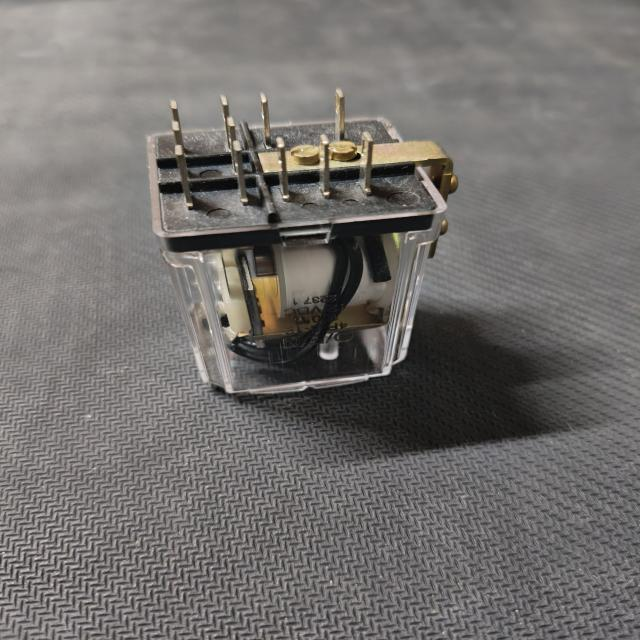relay: (121, 80, 487, 428)
